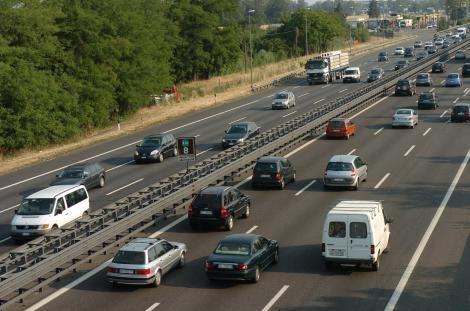car: (322, 199, 393, 271), (205, 230, 282, 287), (108, 231, 185, 288), (11, 179, 88, 236), (177, 177, 254, 234), (252, 151, 300, 191), (320, 151, 368, 191), (59, 155, 106, 189), (131, 129, 178, 163), (322, 112, 357, 143), (221, 120, 257, 146), (386, 107, 423, 130), (269, 89, 296, 110), (448, 100, 470, 124), (414, 89, 439, 109), (391, 78, 416, 98), (339, 63, 364, 83), (444, 70, 466, 89), (414, 72, 432, 88), (431, 59, 447, 73)
